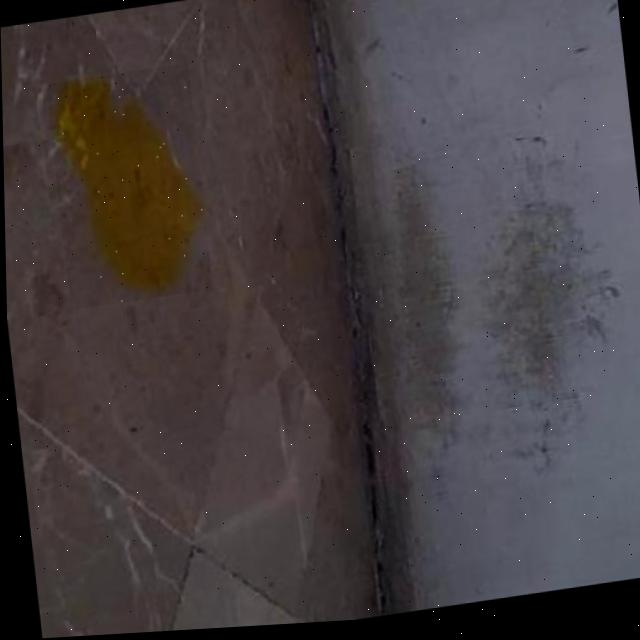spillage: (49, 77, 202, 299)
